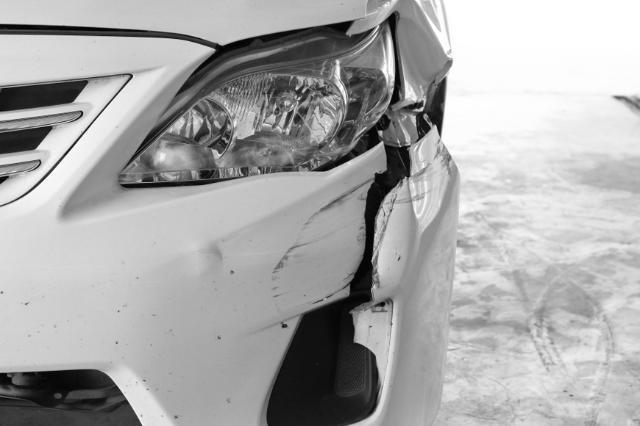Bumper: (160, 126, 467, 426)
Fender: (392, 0, 456, 143)
Light: (121, 25, 396, 185)
